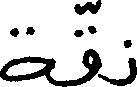ة: (0, 25, 50, 84)
ق: (71, 23, 99, 84)
ن: (125, 38, 135, 85)
